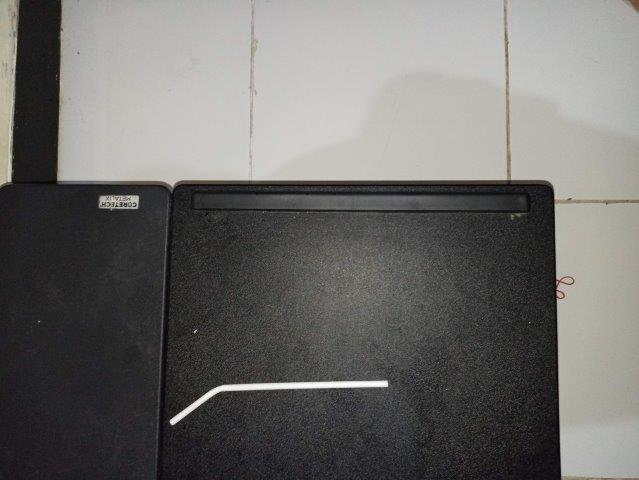karet: (556, 276, 576, 300)
sedotan: (169, 381, 390, 425)
